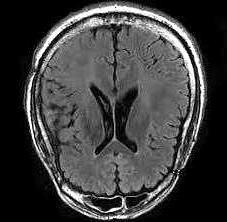Normal_Brain: (15, 8, 215, 222)
